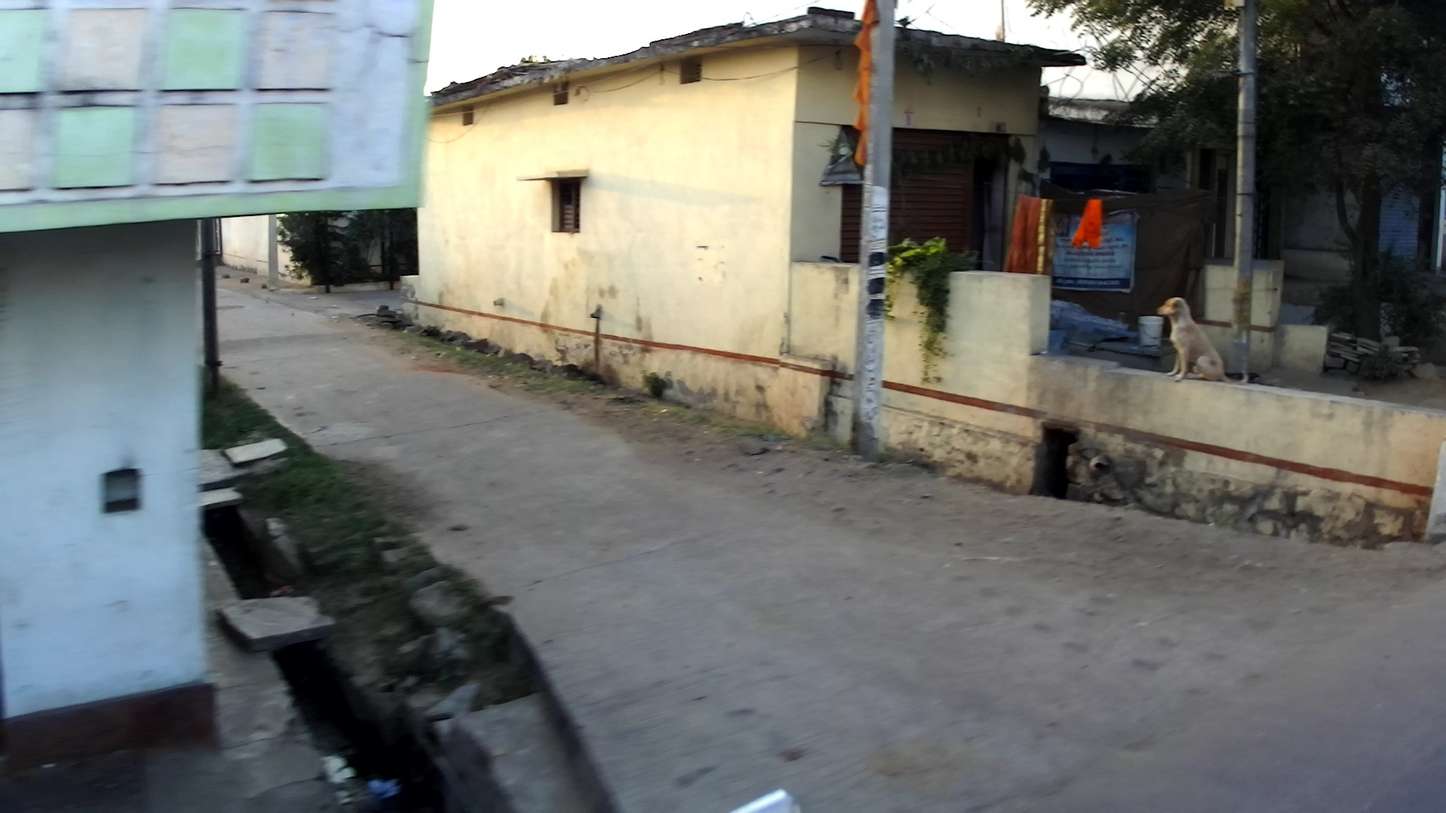animal: (1155, 297, 1249, 387)
